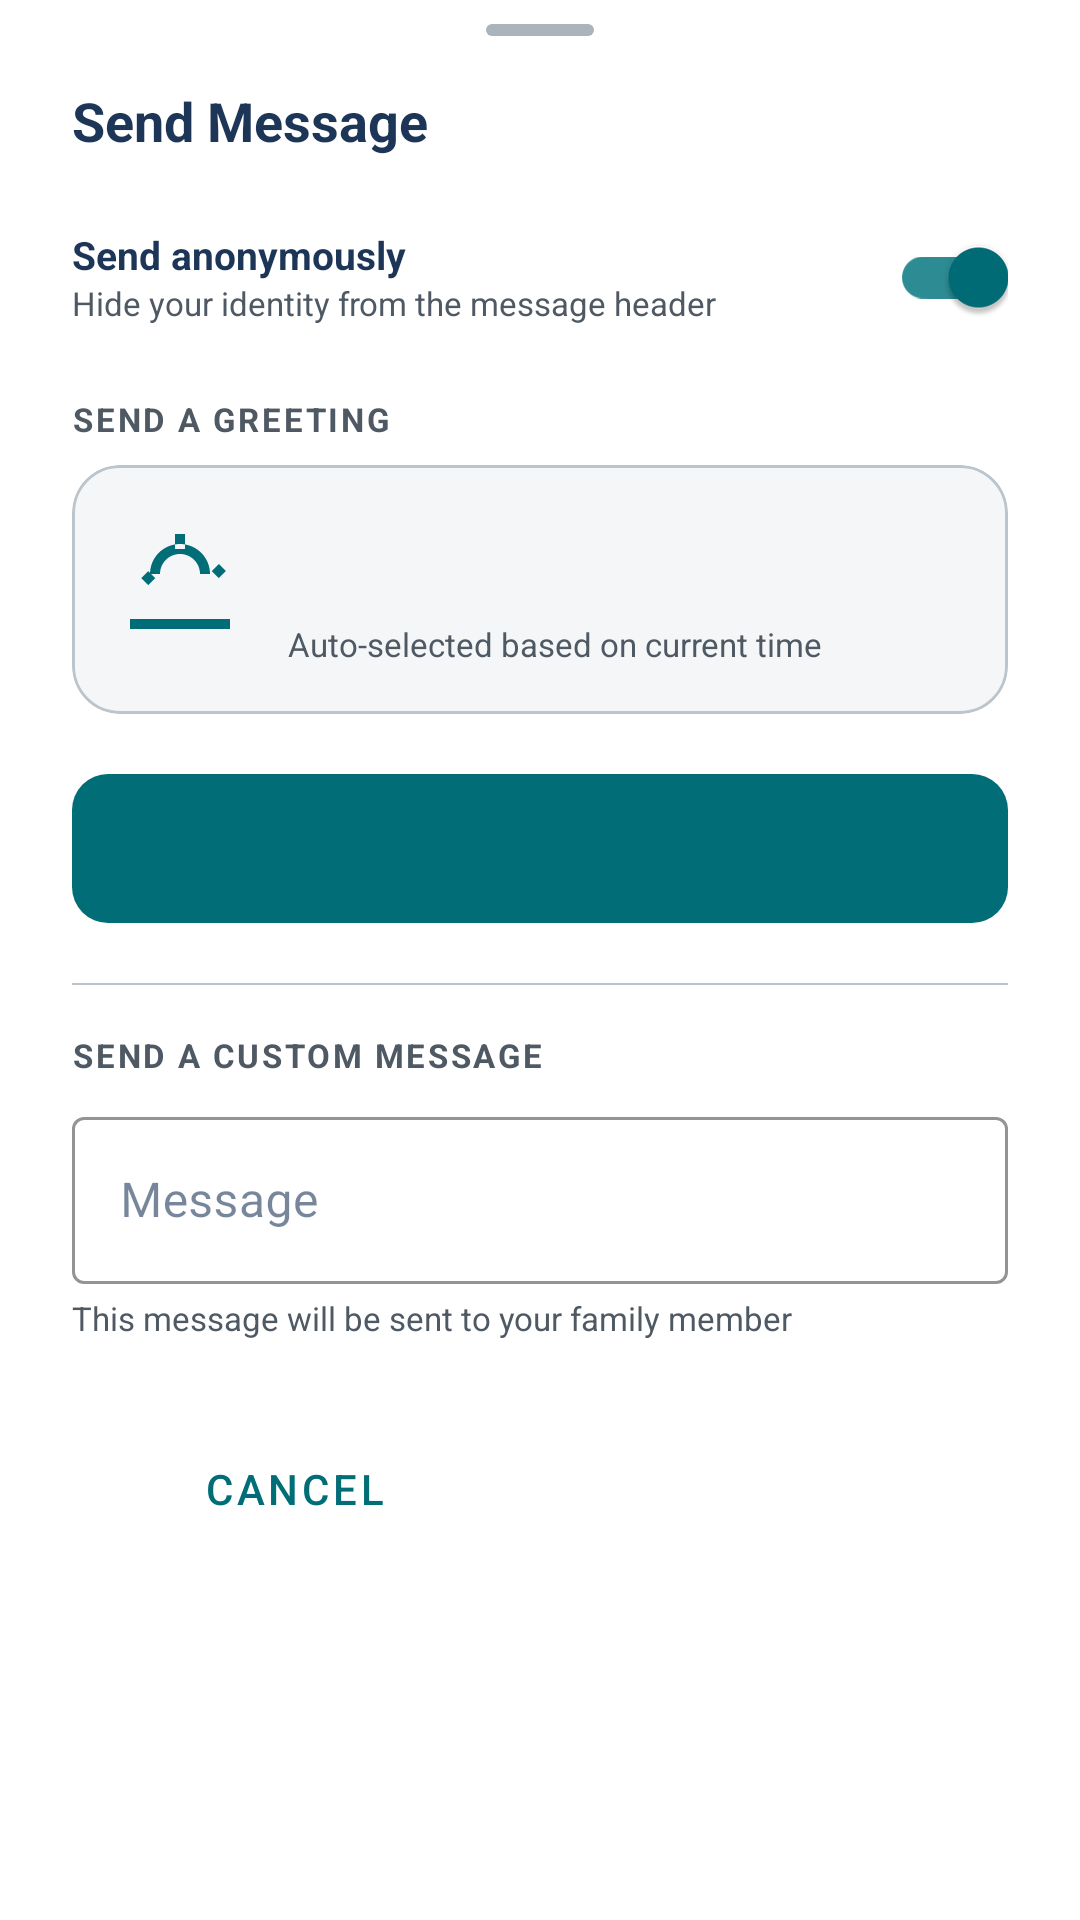

Icons on this 1080px x 1920px Android screen, each with its box as (x1, y1, x2, y2):
sunrise: (130, 534, 230, 629)
